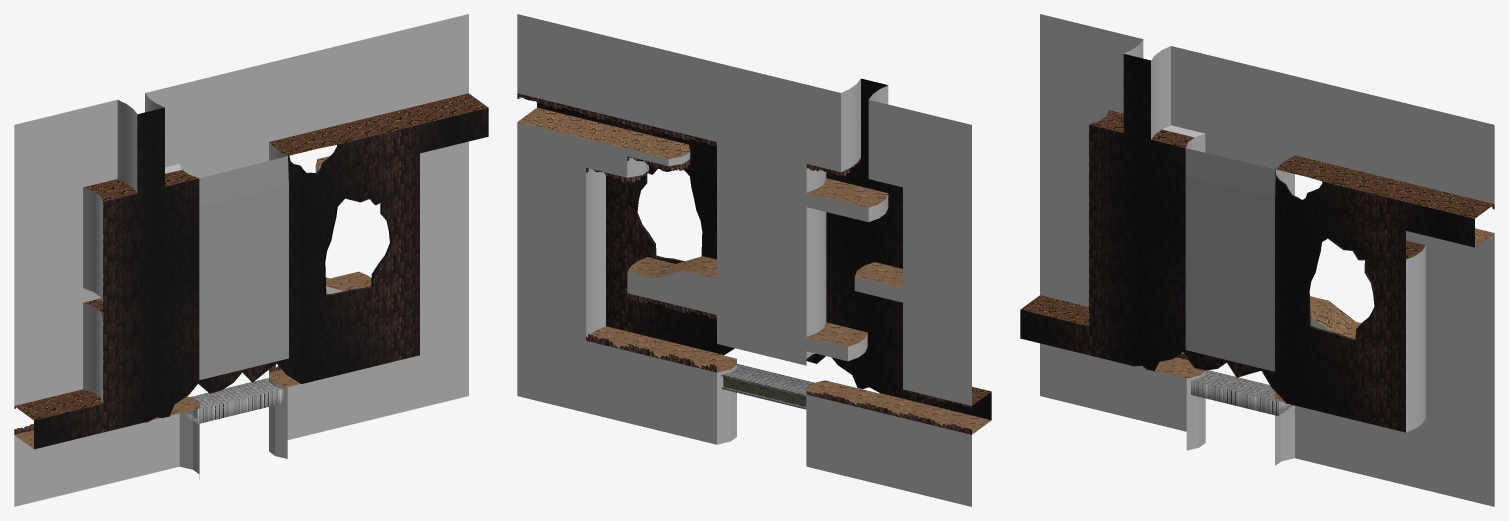
File: Room3.1.fbx
The picture shows the model from 3 angles, left to right: view 1: azimuth 30°, elevation 25°; view 2: azimuth 150°, elevation 25°; view 3: azimuth 330°, elevation 25°; orthographic projection.
Visible parts, largest first — view 1: polySurface312; view 2: polySurface312; view 3: polySurface312.
Part boxes in pixels (x1,y1,x2,y2): polySurface312: (14, 14, 488, 506); polySurface312: (517, 14, 991, 506); polySurface312: (1020, 14, 1494, 506).
Bounding box in the file's own units: 66 × 53 × 5.44.
